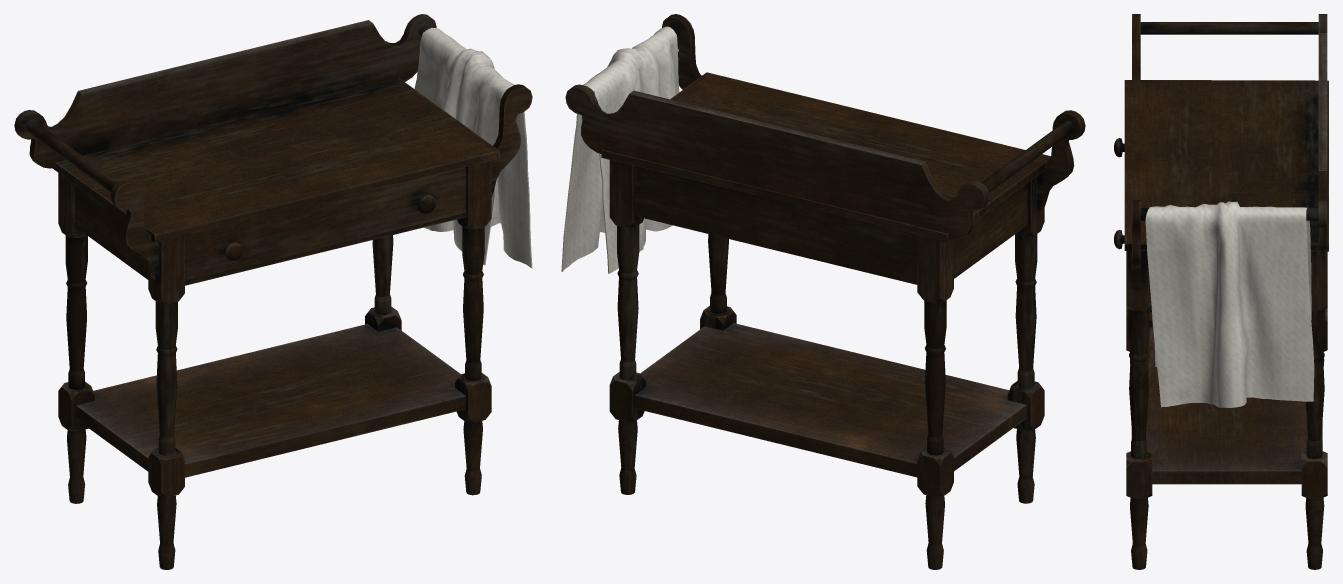
File: washbasin.FBX
3 views of the same model, side by side, from view 1: azimuth 30°, elevation 25°; view 2: azimuth 150°, elevation 25°; view 3: azimuth 270°, elevation 25° (orthographic). The views are drawn at different scales.
Visible parts, largest first — view 1: washbasin, driwer, towel; view 2: washbasin, towel; view 3: washbasin, towel, driwer.
Boxes of the visible parts, x1,y1,x2,y2 form: washbasin: [14, 14, 532, 569]; driwer: [185, 167, 465, 280]; towel: [414, 27, 532, 268]; washbasin: [565, 14, 1085, 569]; towel: [561, 26, 679, 273]; washbasin: [1124, 14, 1328, 569]; towel: [1145, 201, 1314, 407]; driwer: [1114, 138, 1124, 249].
Bounding box in the file's own units: 0.8773 × 0.7429 × 0.3685.
1 material, 1 textured.
